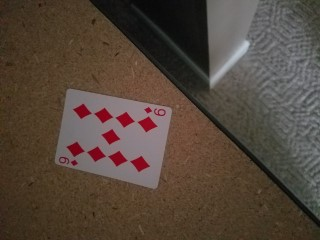NineOfDiamonds: (54, 88, 173, 189)
